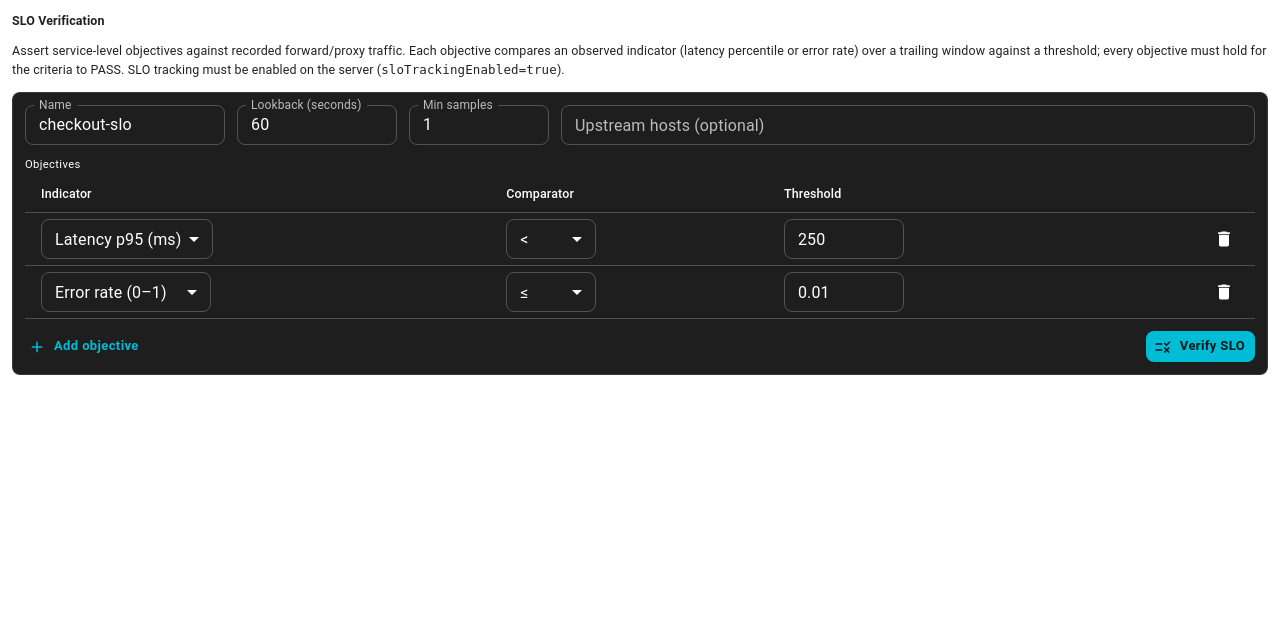
SloPanel › renders a PASS verdict with the per-objective observed value
Click the button "Verify SLO" at (1200,347), box x1=1146 y1=331 x2=1255 y2=362
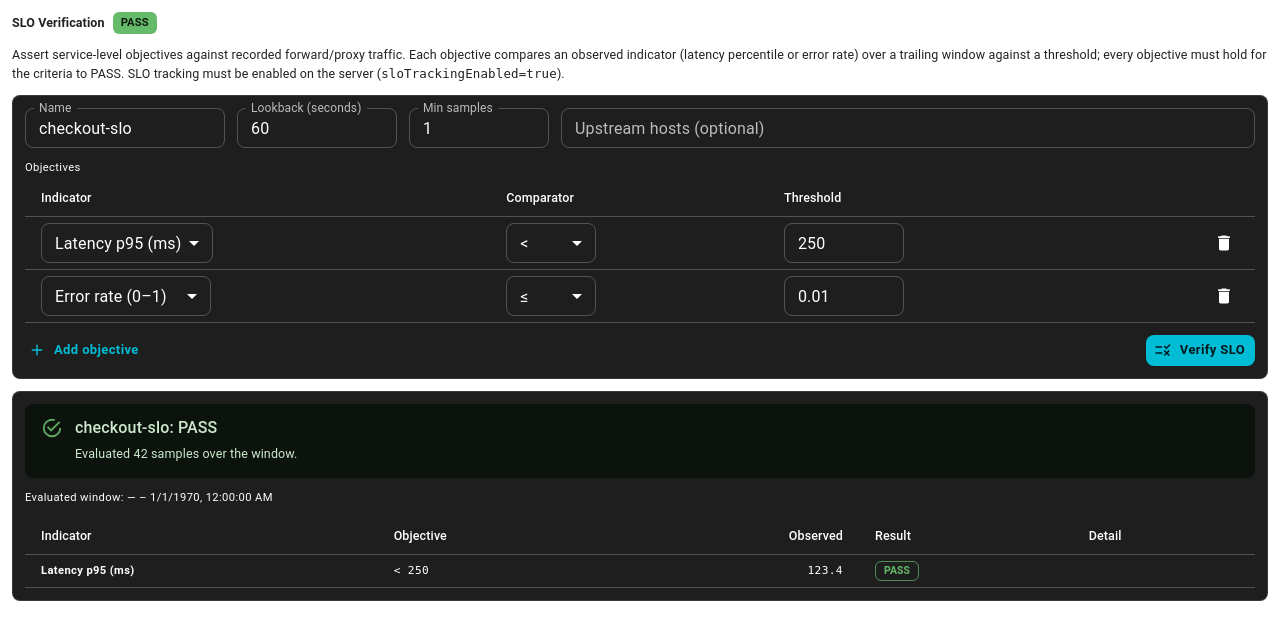
Expected: the text "checkout-slo: PASS" is shown, x1=75 y1=418 x2=217 y2=437
Expected: the text "checkout-slo: PASS Evaluated 42 samples over the window." is shown, x1=75 y1=410 x2=298 y2=472
Expected: the text "123.4" is shown, x1=807 y1=564 x2=843 y2=578
